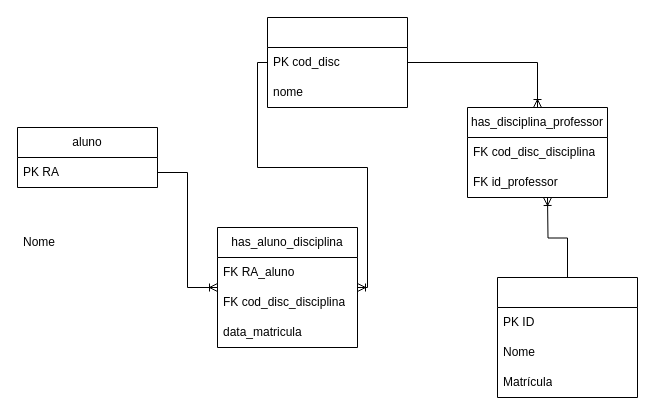
Image size: 655x415. Some labels were removed from this diagram. Here are the shapes that lost their labels. From the top down, the box of each, then its label:
(266, 16, 408, 108): disciplina
(496, 276, 638, 398): professor
